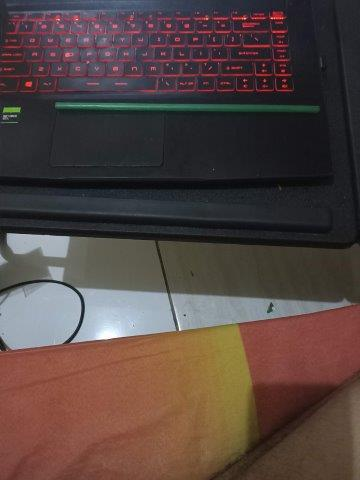sedotan: (55, 102, 321, 113)
